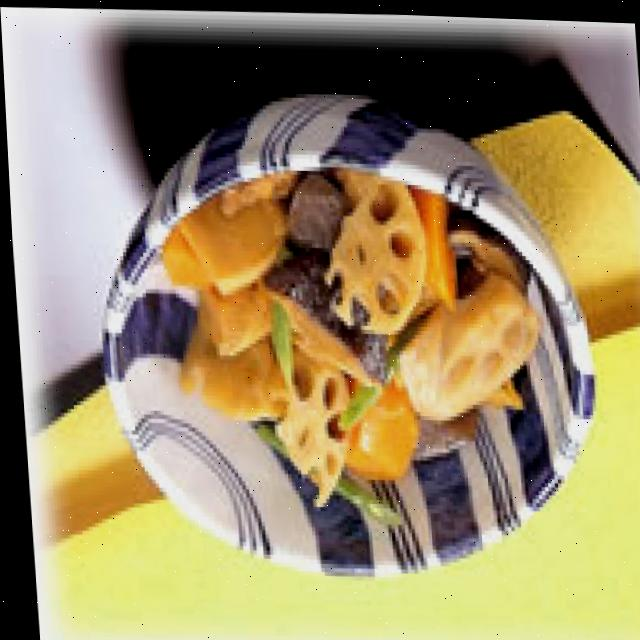鸡肉料理 含炸鸡: (99, 120, 560, 571)
